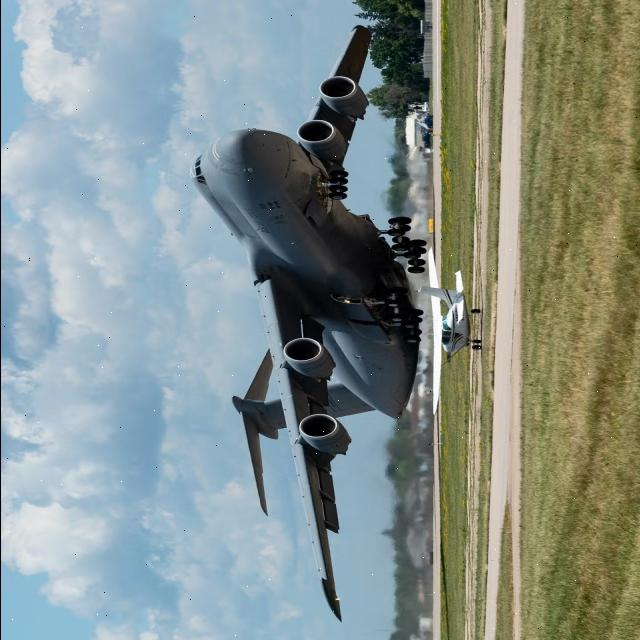C5: (179, 0, 513, 640)
